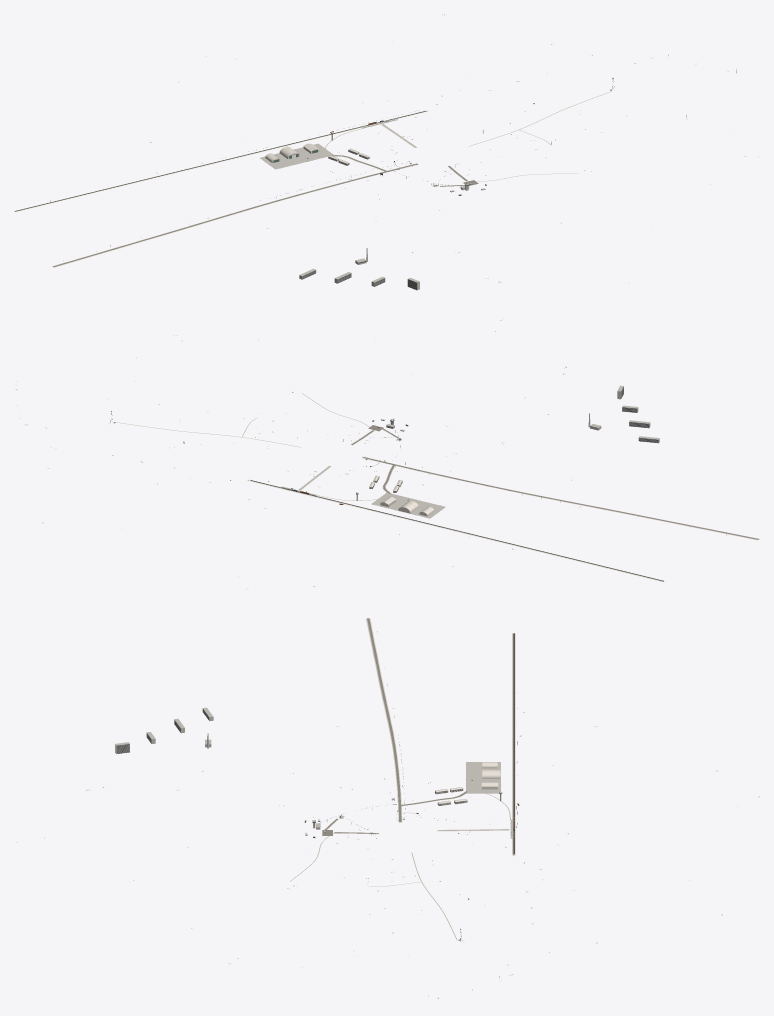
File: site.glb
3 views of the same model, one above another, from view 1: azimuth 30°, elevation 25°; view 2: azimuth 150°, elevation 25°; view 3: azimuth 270°, elevation 25° (orthographic). The views are drawn at different scales.
Parts seen in each view (by area): view 1: siteNW, siteN, siteW, siteS; view 2: siteNW, siteN, siteW, siteS, siteScrub; view 3: siteNW, siteN, siteW, siteS.
Part boxes in pixels (x1,y1,x2,y2): siteNW: [260, 132, 387, 171]; siteN: [14, 110, 428, 212]; siteW: [52, 161, 418, 267]; siteS: [299, 164, 486, 290]; siteNW: [356, 464, 445, 518]; siteN: [247, 466, 663, 582]; siteW: [362, 457, 759, 540]; siteS: [343, 385, 659, 447]; siteScrub: [16, 320, 580, 588]; siteNW: [399, 762, 502, 806]; siteN: [437, 633, 519, 856]; siteW: [366, 618, 418, 822]; siteS: [115, 707, 396, 838].
Bounding box in the file's own units: 2547 × 47.05 × 2096.
